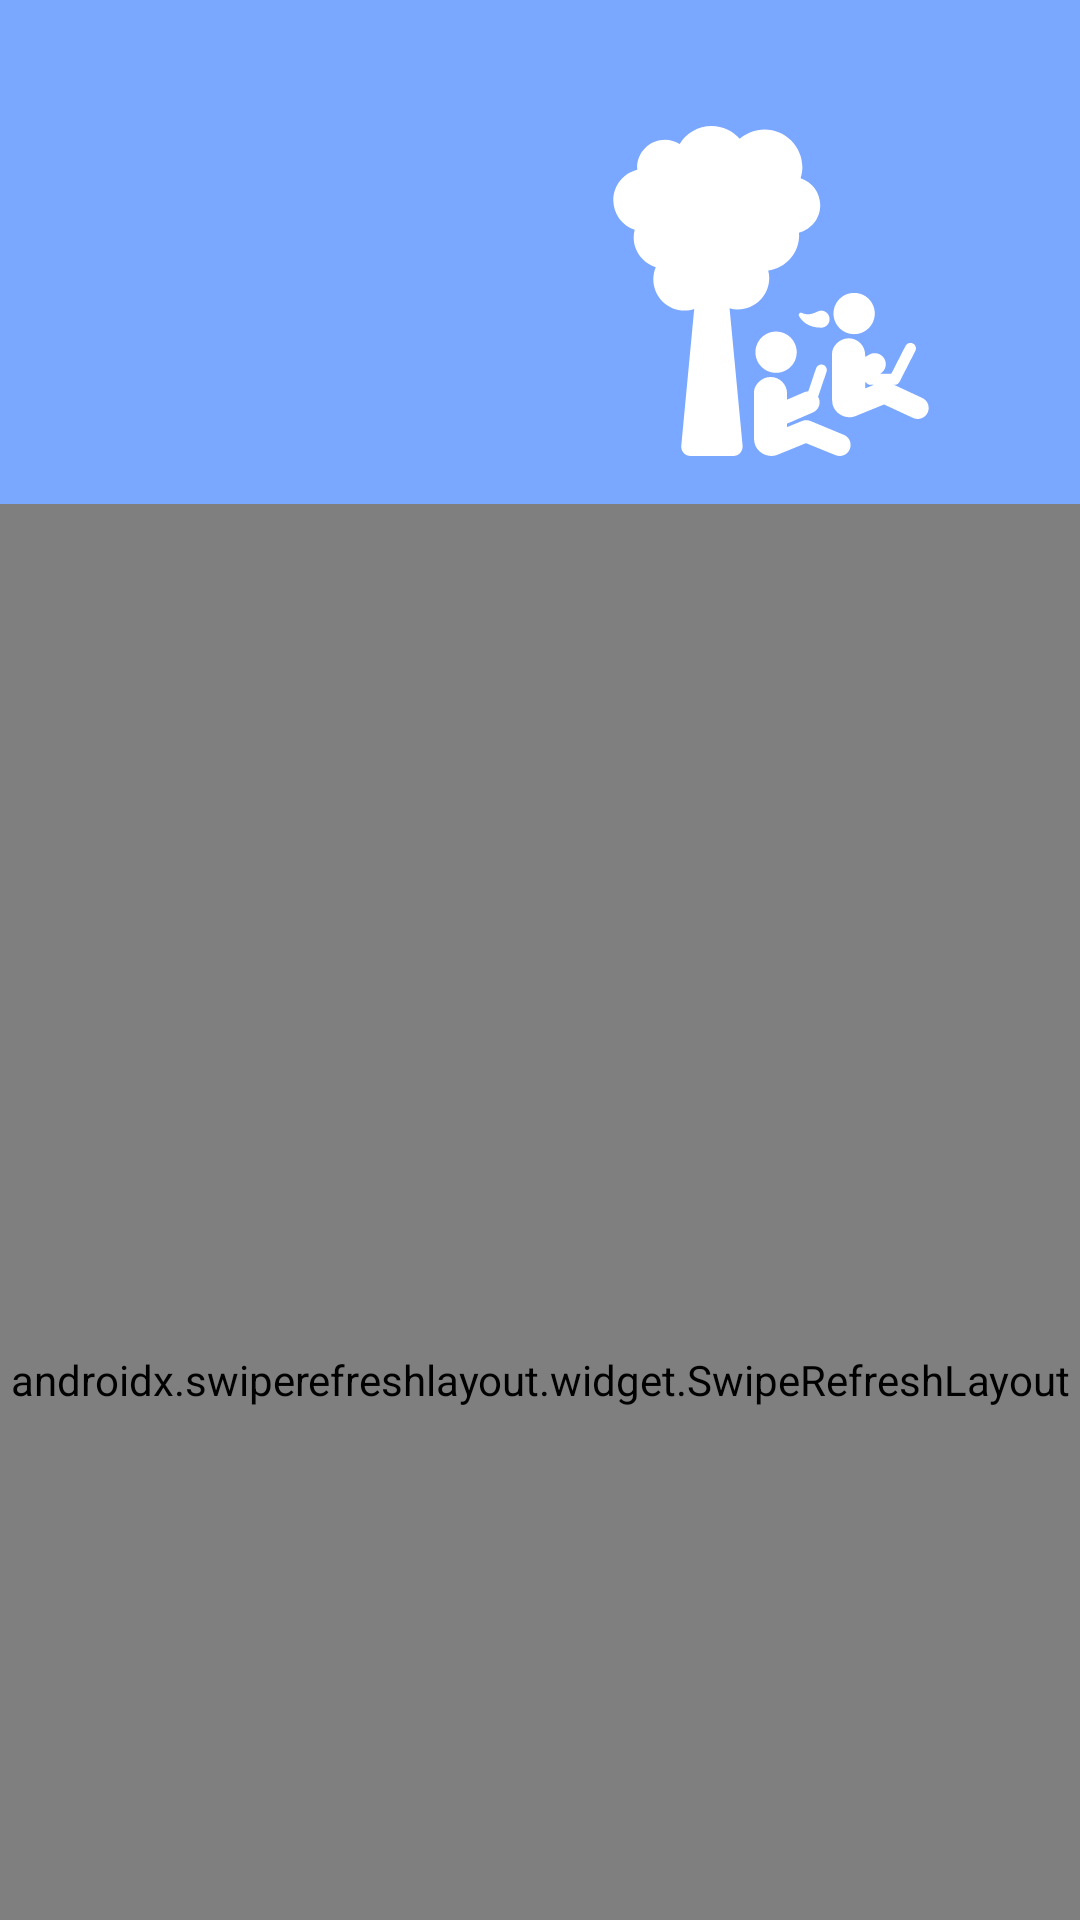

Locate icon controls on the screen. Image size 1080*1920, boxes as (x1, y1, x2, y2).
Reading image: (613, 126, 929, 456)
